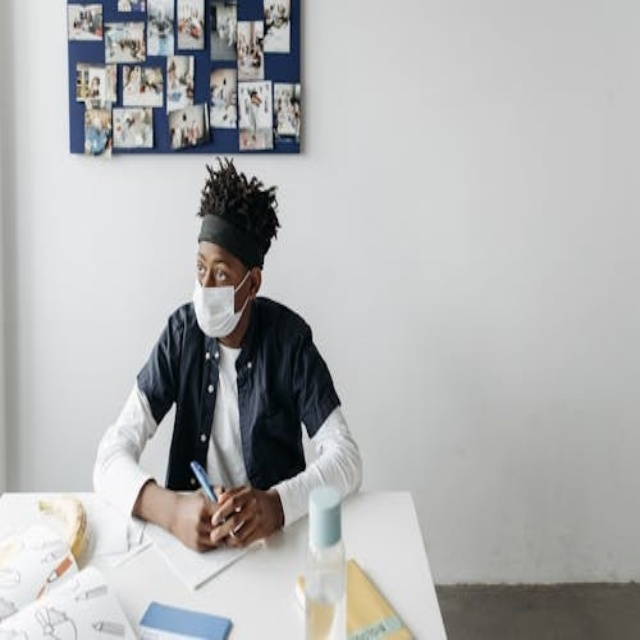Mascara: (193, 267, 252, 338)
Sin_gafas: (193, 249, 237, 289)
Sin_guantes: (211, 483, 280, 551), (177, 475, 225, 550)
